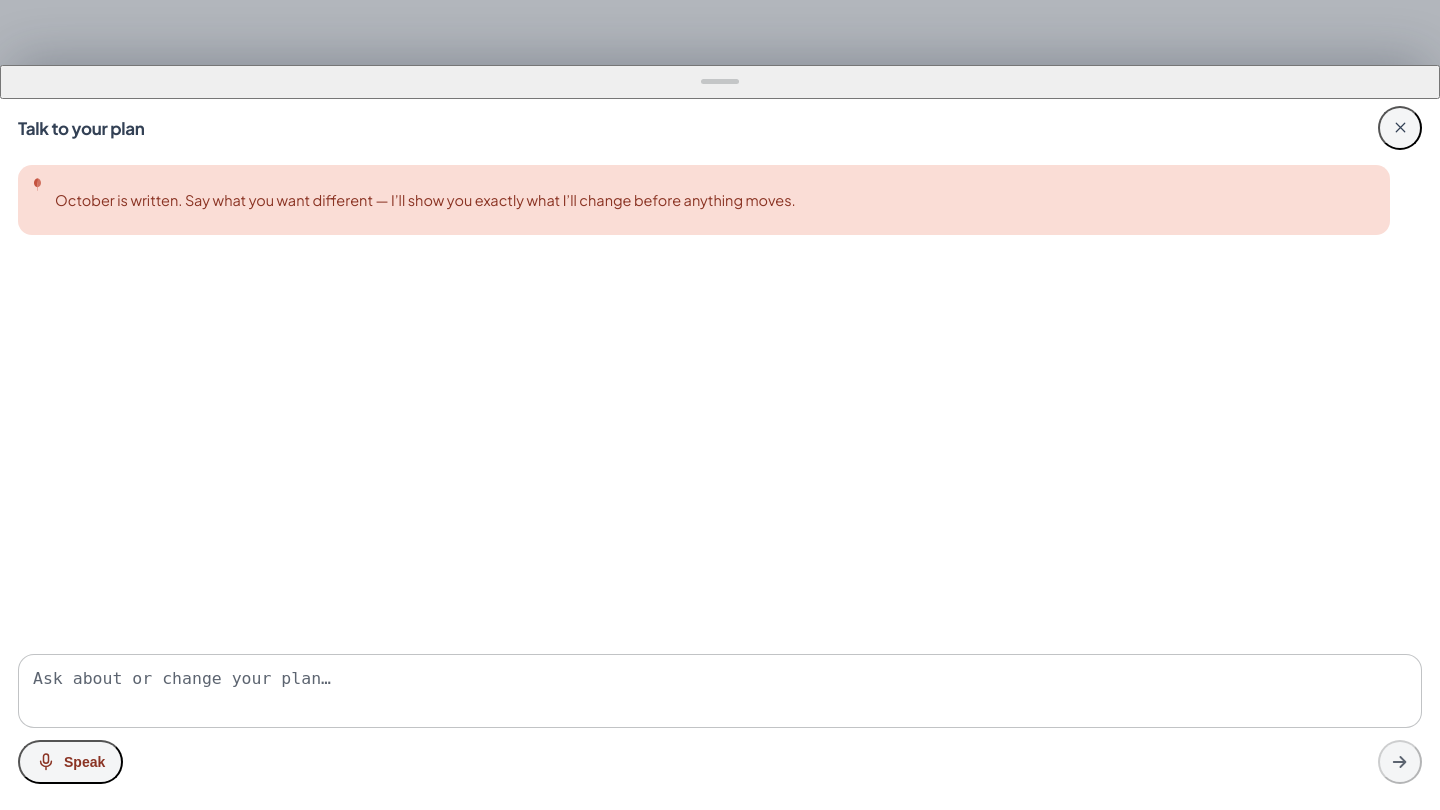
it: question → answer-in-composer → resolution: the dead-end is gone › an agent question is just a turn, and the composer answers it
The width and height of the screenshot is (1440, 810).
Expected: the message with test id "turn-agent" is shown, [18,165,1390,235]
Type "move the Friday post" into the text box with test id "voice-input" at {"x": 720, "y": 691}, box [18,654,1422,728]
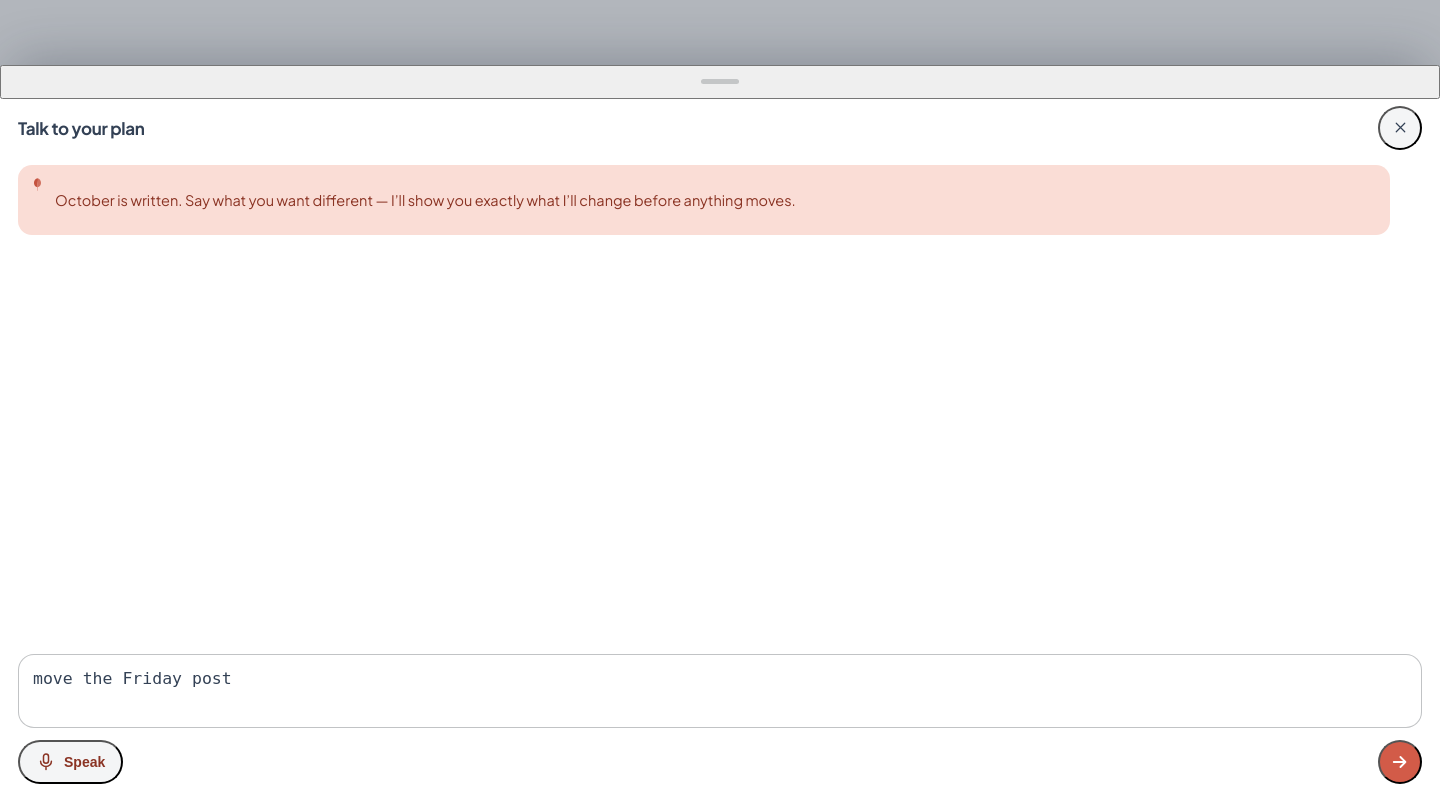
Click the button with test id "voice-submit" at {"x": 1400, "y": 762}, box [1378,740,1422,784]
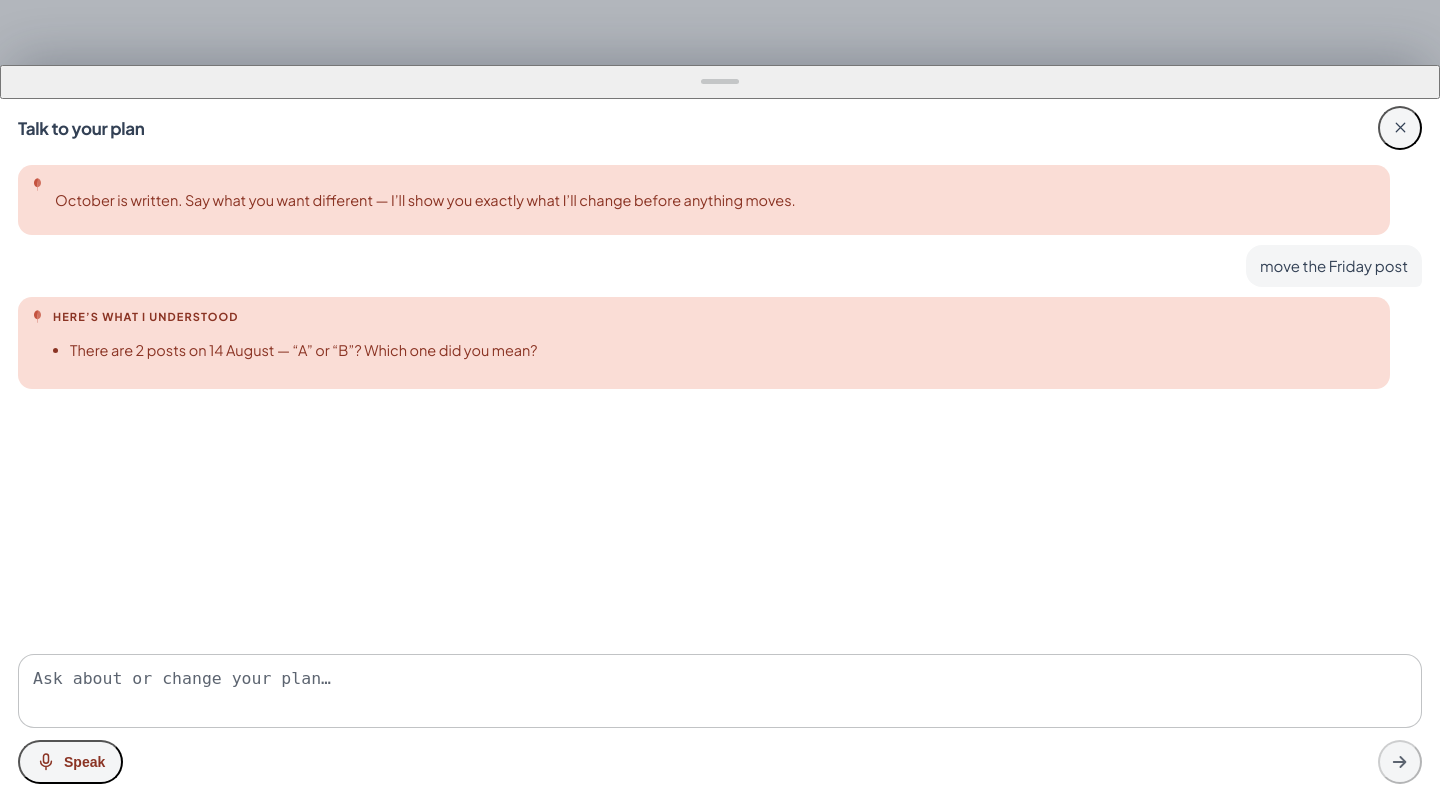
Expected: the list item with test id "interp-unresolved" shows "Which one did you mean", [70,341,538,359]
Type "the one called A" into the text box with test id "voice-input" at {"x": 720, "y": 691}, box [18,654,1422,728]
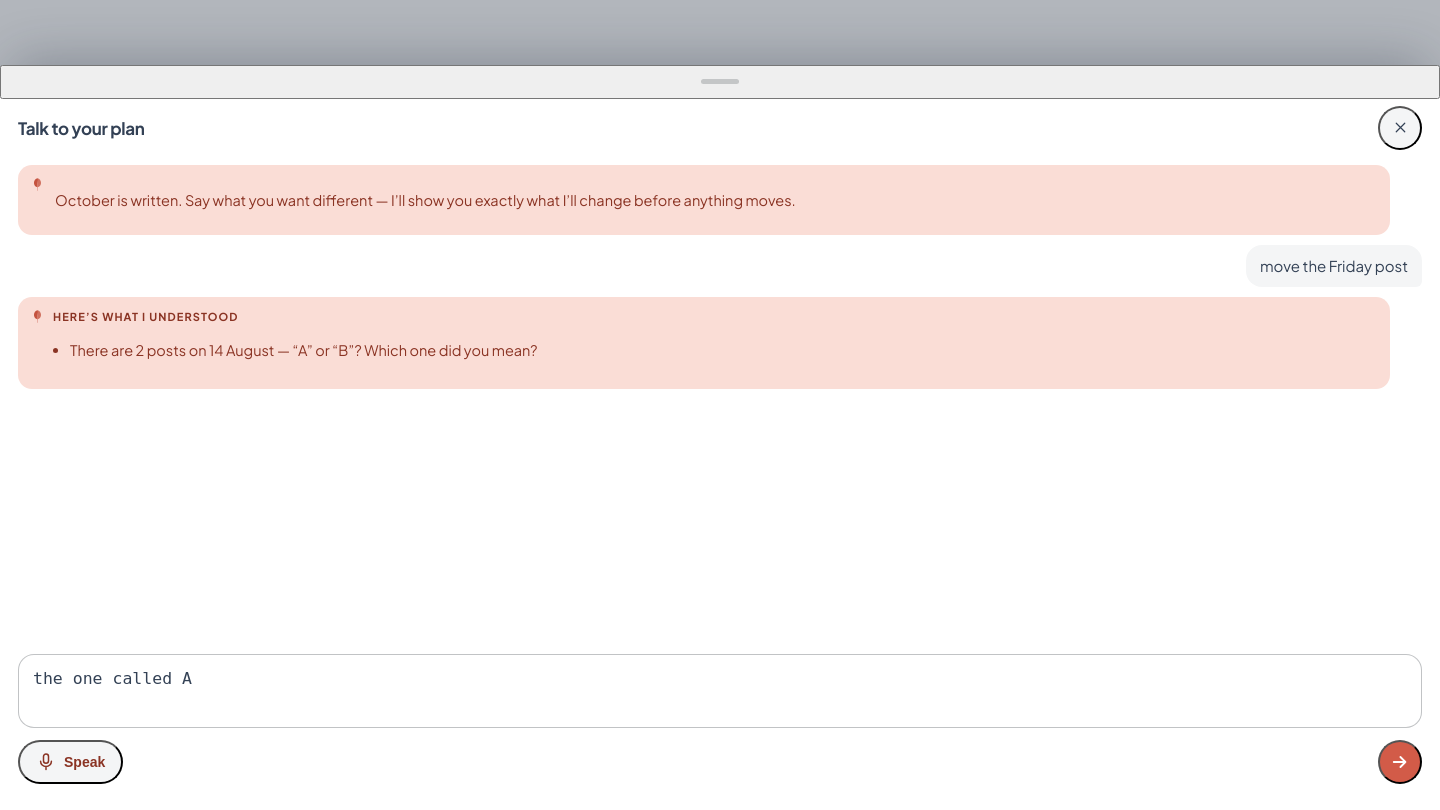
Click the button with test id "voice-submit" at {"x": 1400, "y": 762}, box [1378,740,1422,784]
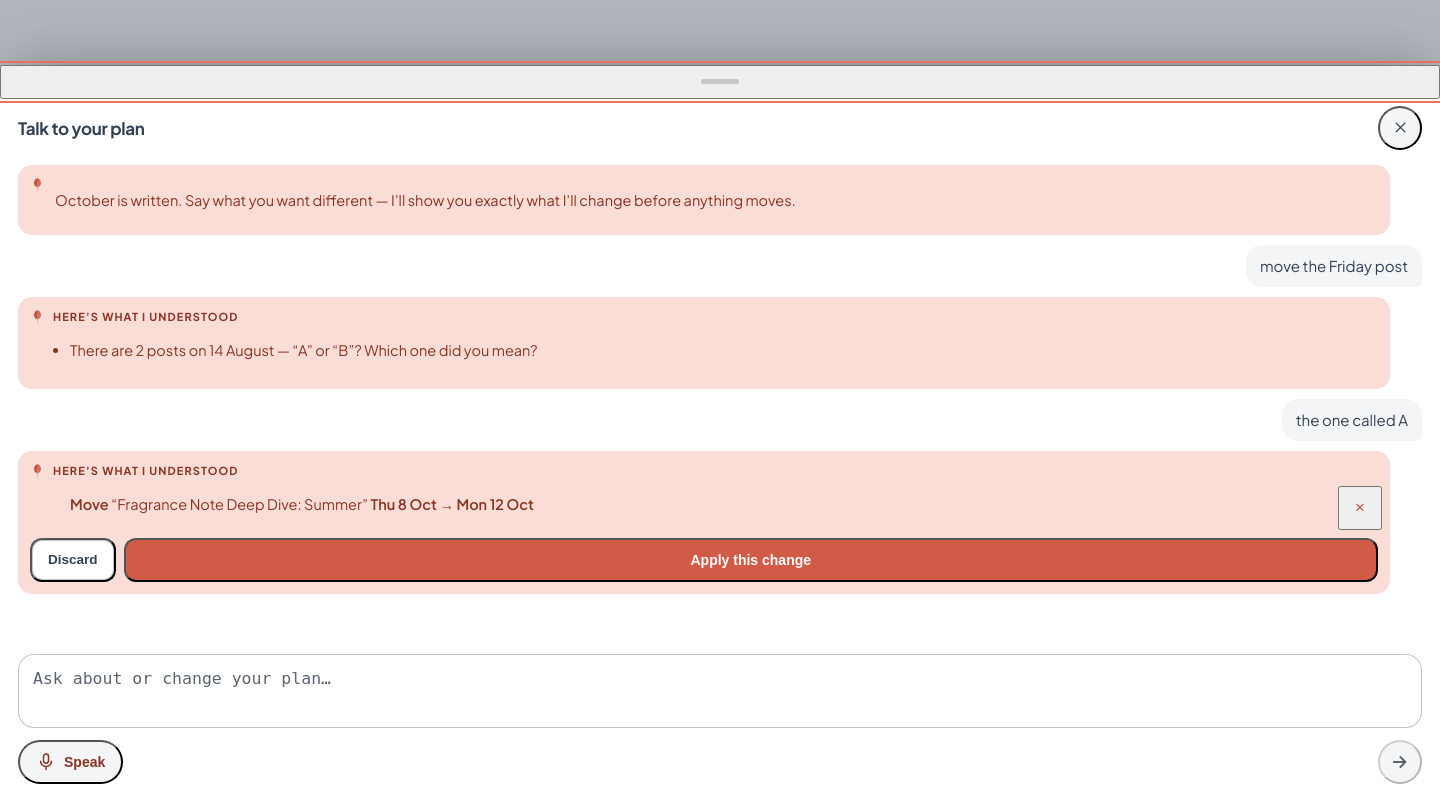
Expected: the button with test id "interp-apply" is shown, [124,538,1378,582]
